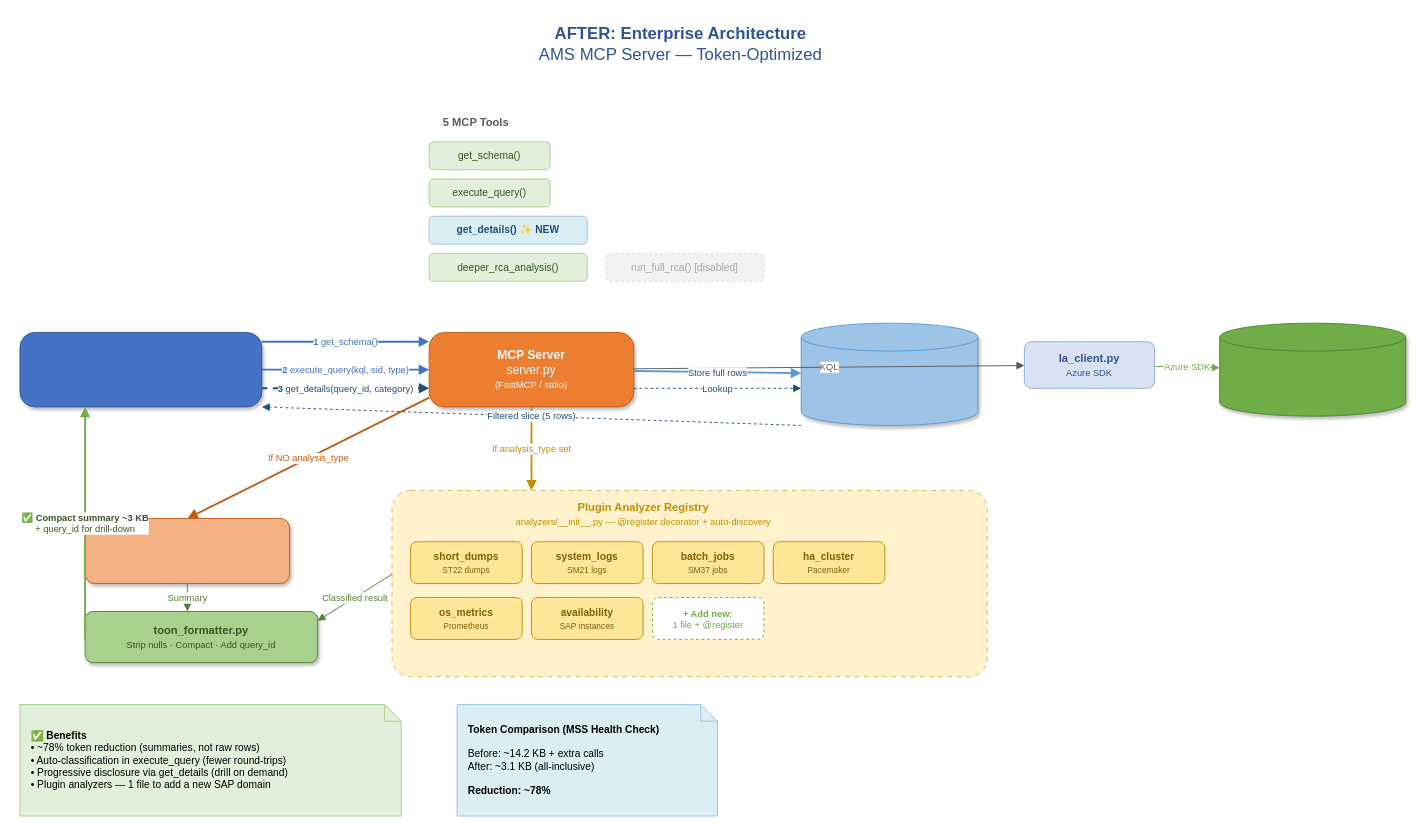
Some shapes in this 1428 by 832 pixel diagram are drawn without their labels. Each missing label, with the centre of its shape:
AI Model (Copilot / Foundry Agent / Claude): pixel 141 370
Azure Log Analytics Workspace: pixel 1313 371
generic_summarizer.py Stats + 3 sample rows (for unclassified queries): pixel 187 552
result_cache.py In-Memory Cache TTL 300s · Max 50 entries Key: q_{sha256[:8]}: pixel 890 375
